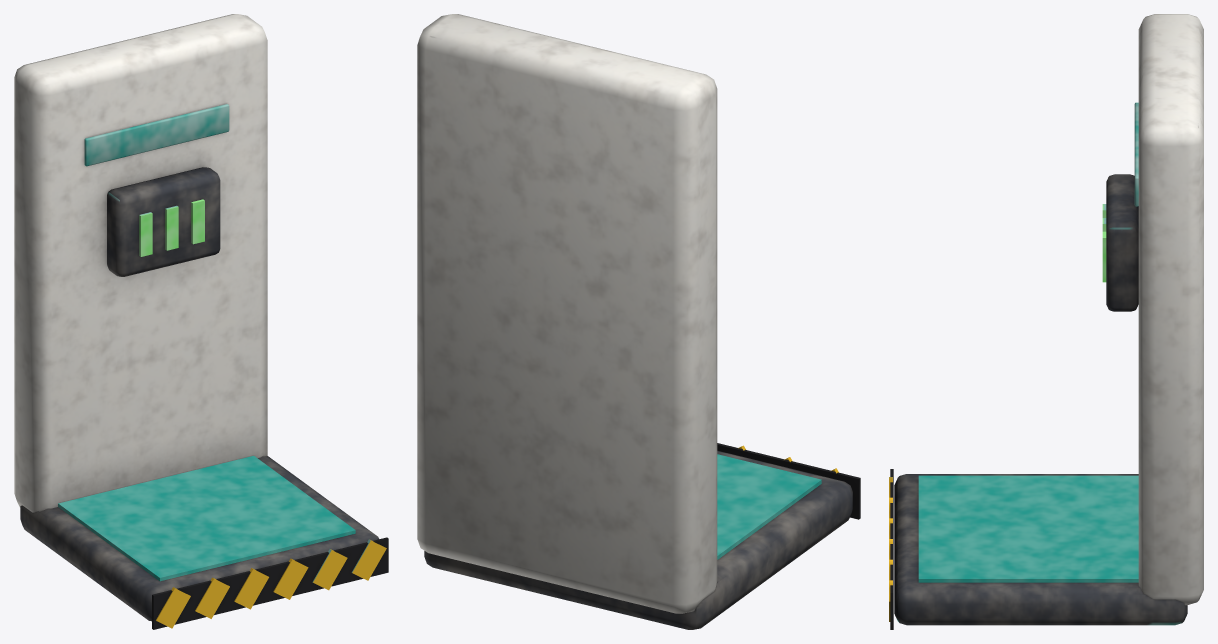
Rendered from charging_dock.fbx.
3 views of the same model, side by side, from view 1: azimuth 30°, elevation 25°; view 2: azimuth 150°, elevation 25°; view 3: azimuth 270°, elevation 25° (orthographic). The views are drawn at different scales.
Visible parts, largest first — view 1: Body, Glow; view 2: Body, Glow; view 3: Body, Glow.
Boxes of the visible parts, <box> form: Body: <box>14,14,388,629</box>; Glow: <box>58,104,355,581</box>; Body: <box>417,14,860,629</box>; Glow: <box>717,454,821,559</box>; Body: <box>889,14,1203,629</box>; Glow: <box>918,102,1138,582</box>.
Bounding box in the file's own units: 3.6 × 6.79 × 3.87.
1 material, 1 textured.
